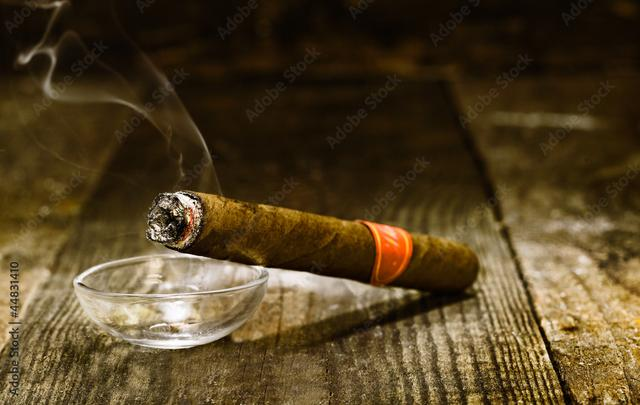Cigar: (144, 188, 480, 294)
